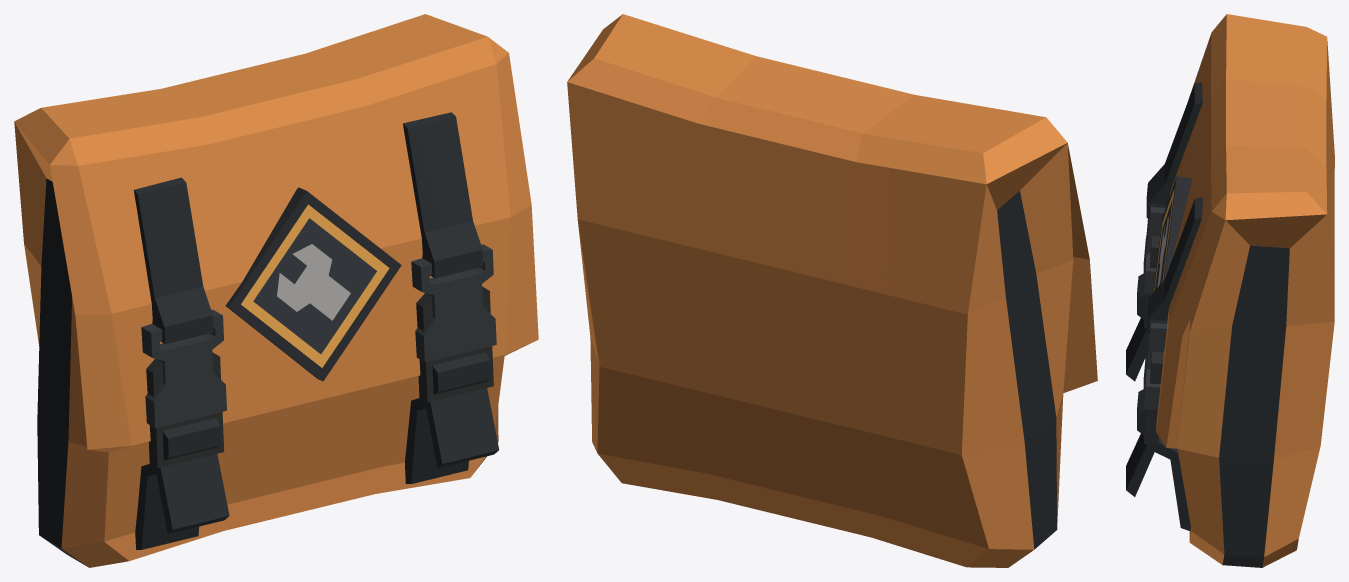
Rendered from worlds_SM_Chr_Attach_Pouch_Repair_01.gltf.
3 views of the same model, side by side, from view 1: azimuth 30°, elevation 25°; view 2: azimuth 150°, elevation 25°; view 3: azimuth 270°, elevation 25° (orthographic). The views are drawn at different scales.
Parts seen in each view (by area): view 1: SM_Chr_Attach_Pouch_Repair_01; view 2: SM_Chr_Attach_Pouch_Repair_01; view 3: SM_Chr_Attach_Pouch_Repair_01.
Part boxes in pixels (x1,y1,x2,y2): SM_Chr_Attach_Pouch_Repair_01: [14, 14, 538, 567]; SM_Chr_Attach_Pouch_Repair_01: [567, 14, 1097, 567]; SM_Chr_Attach_Pouch_Repair_01: [1126, 14, 1334, 567].
Bounding box in the file's own units: 0.2378 × 0.2152 × 0.1066.
Materials: 1 (1 with a texture image).
